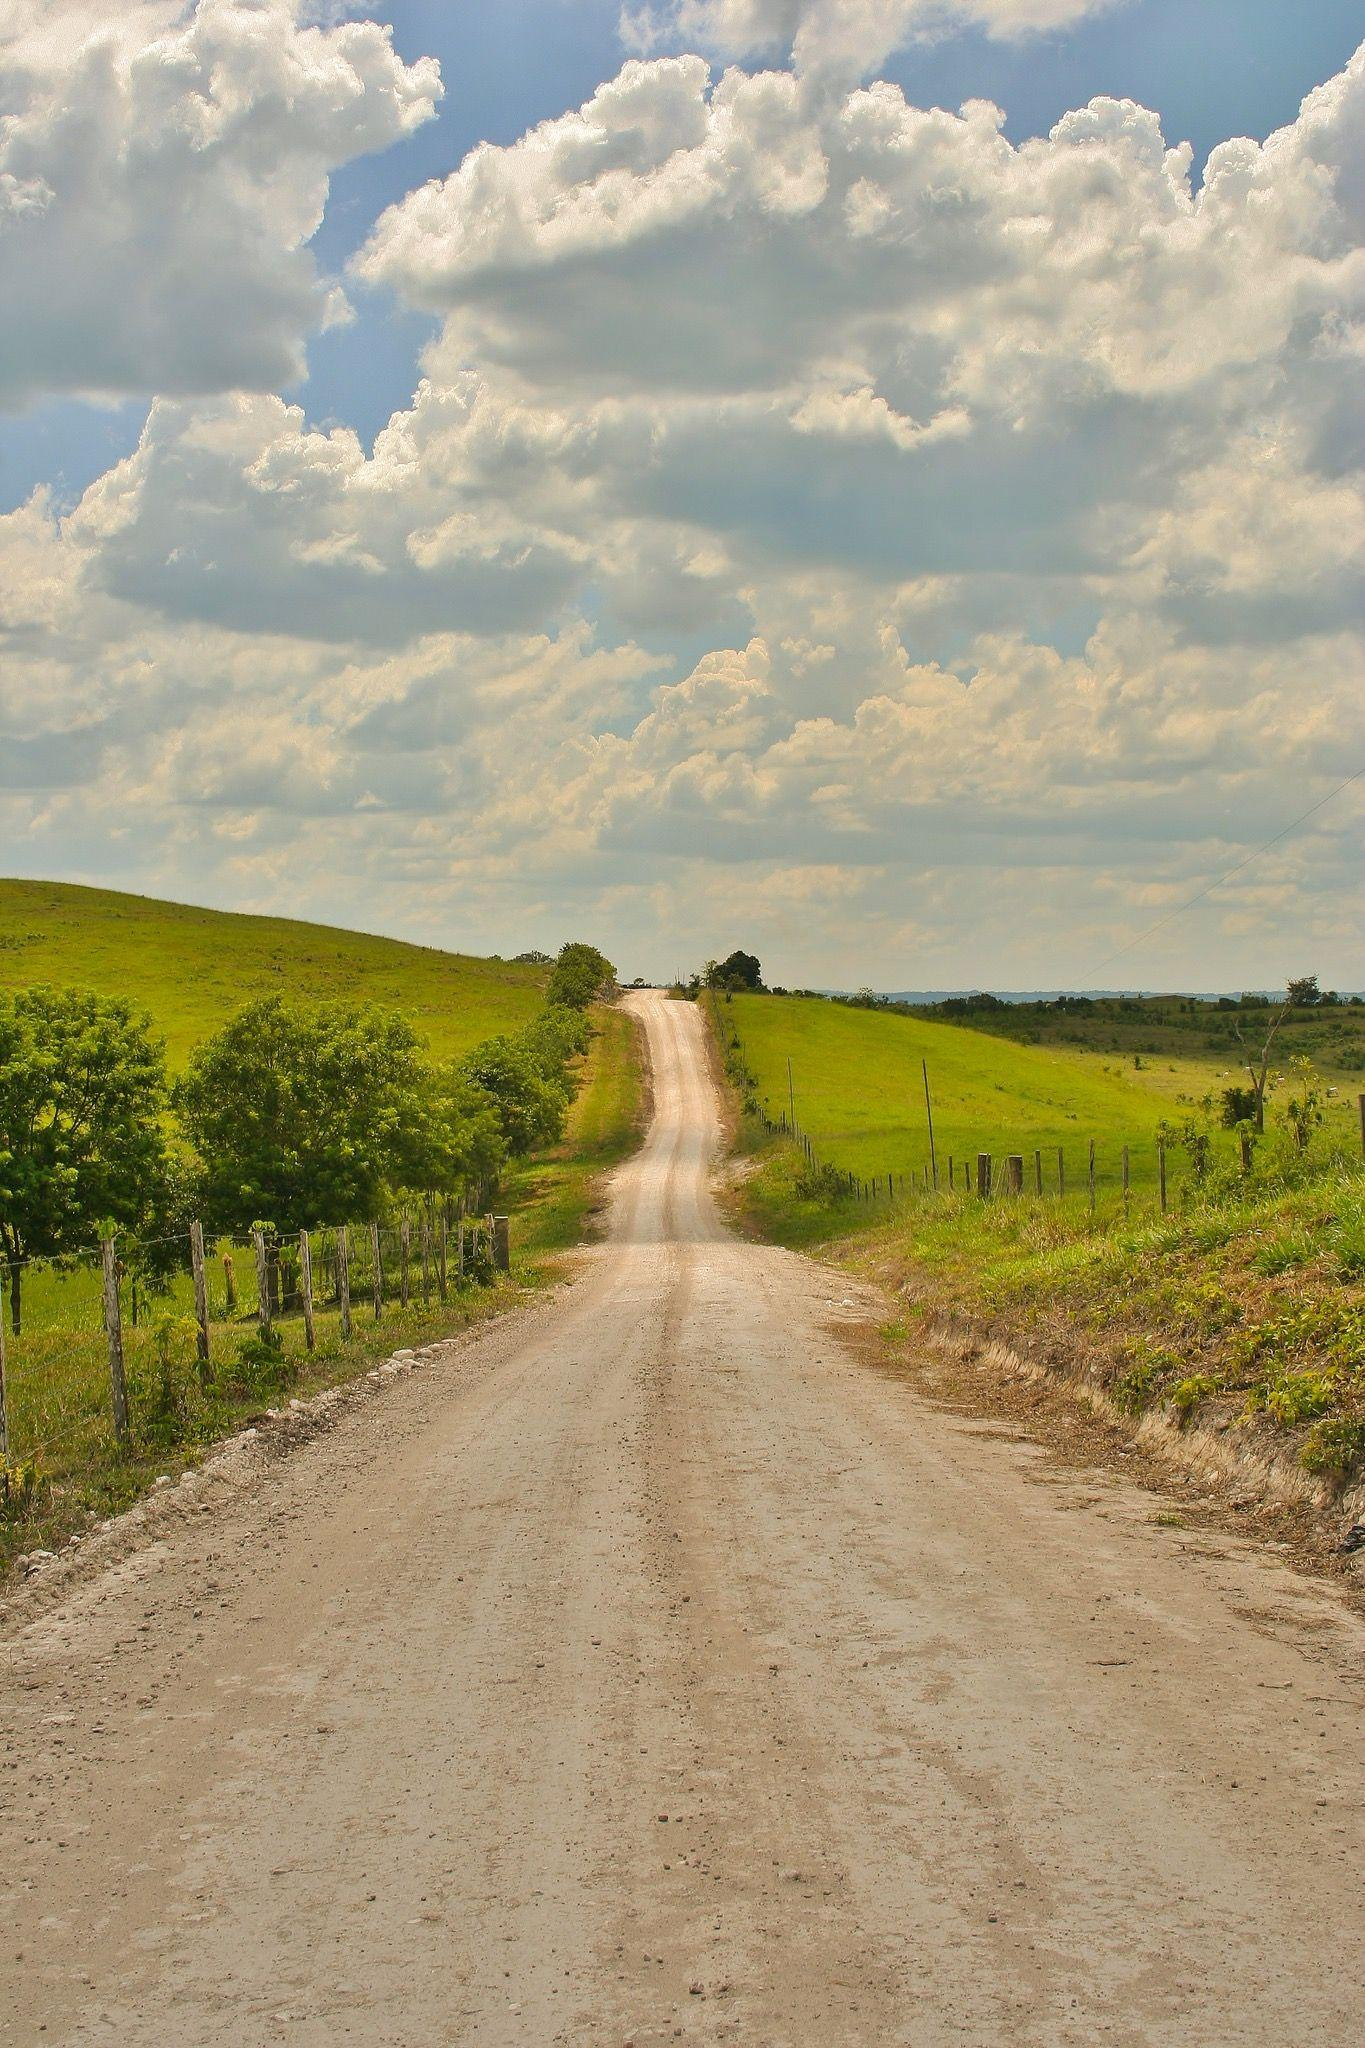cloud: (2, 2, 602, 487)
